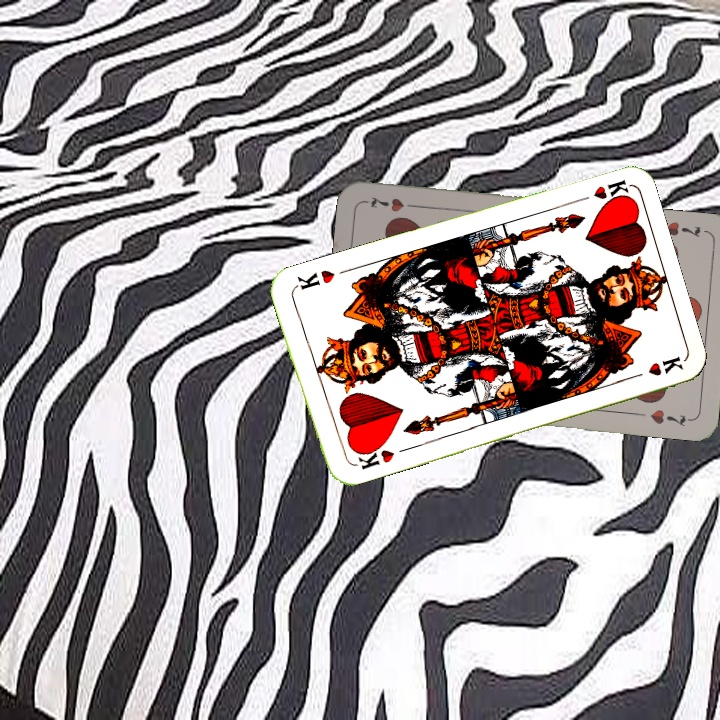H7: (662, 217, 703, 240)
HK: (571, 175, 631, 207), (347, 440, 397, 472)
